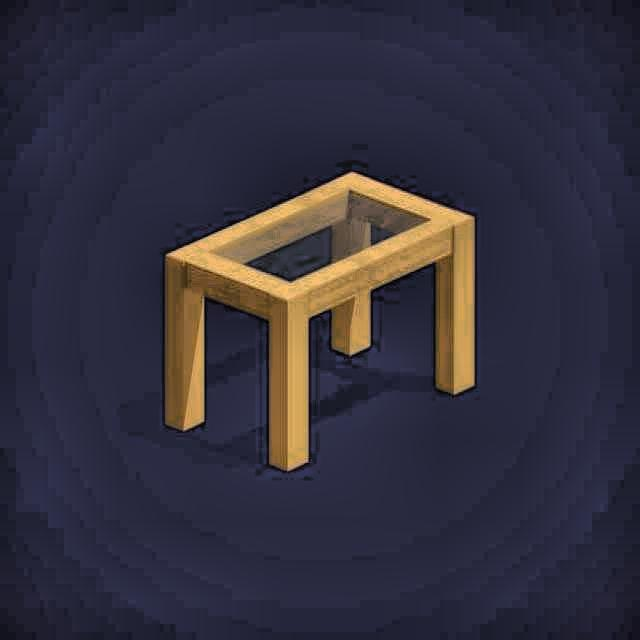mesa: (166, 170, 477, 474)
